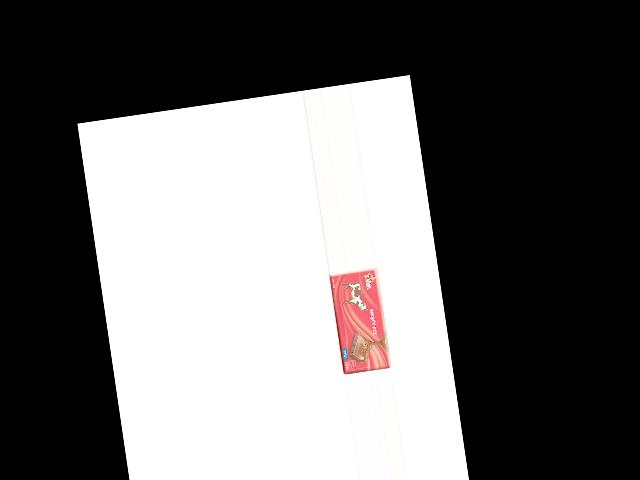chocolate: (329, 266, 391, 375)
